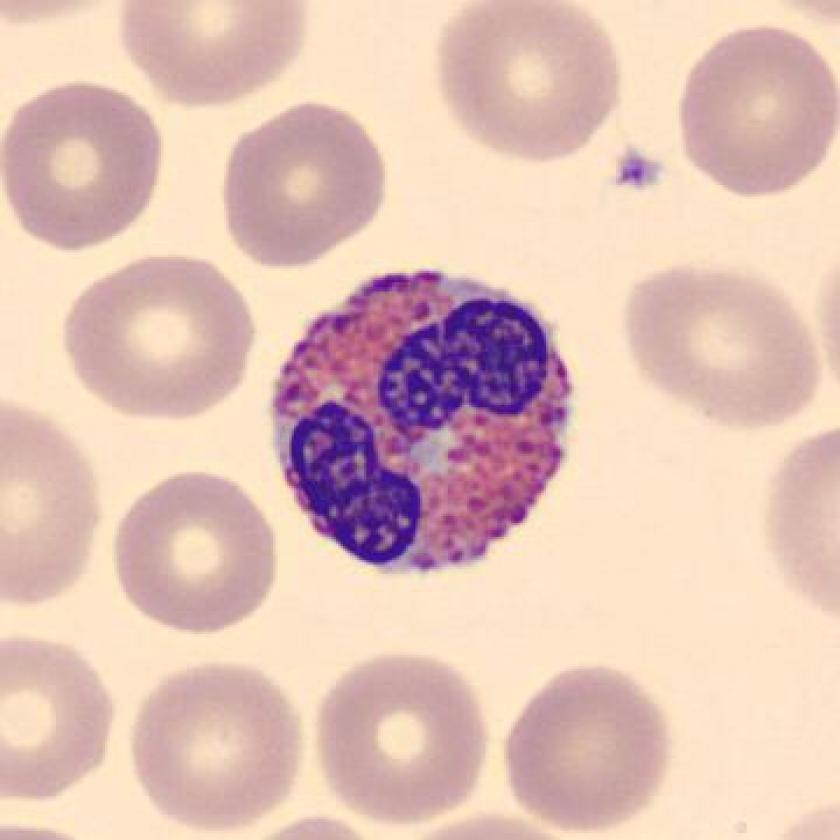eosinophil: (253, 256, 594, 589)
